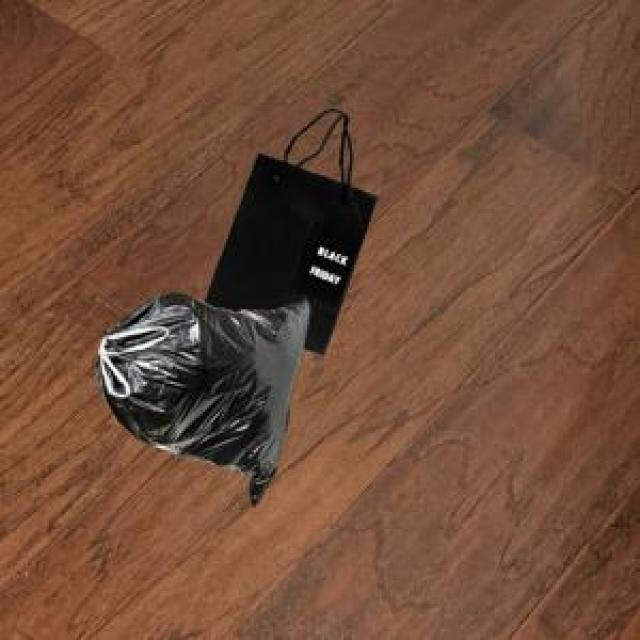miscellaneous trash: (92, 288, 305, 501)
paper: (201, 109, 373, 350)
